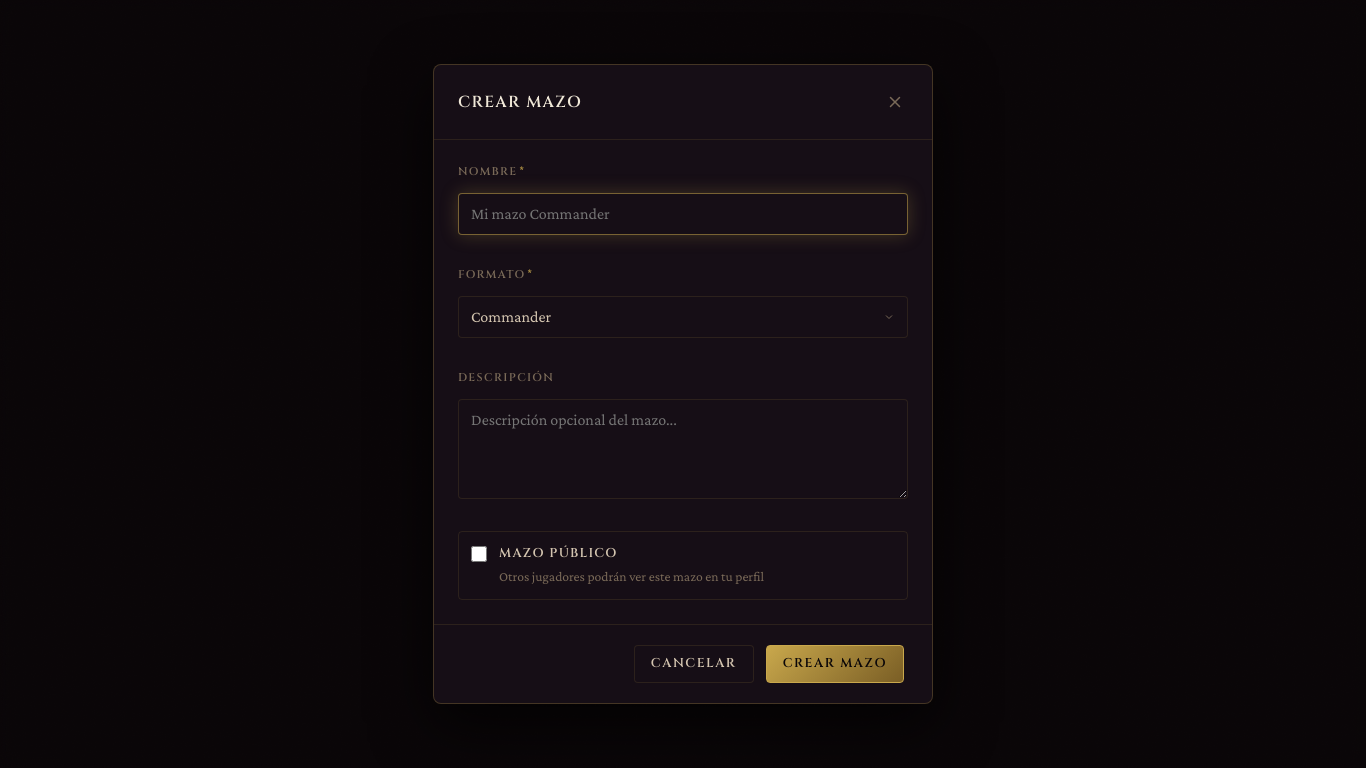
CrearMazoModal › valida que el nombre sea obligatorio
Click the button "Crear mazo" at (835, 664), box left=766, top=645, right=904, bottom=683
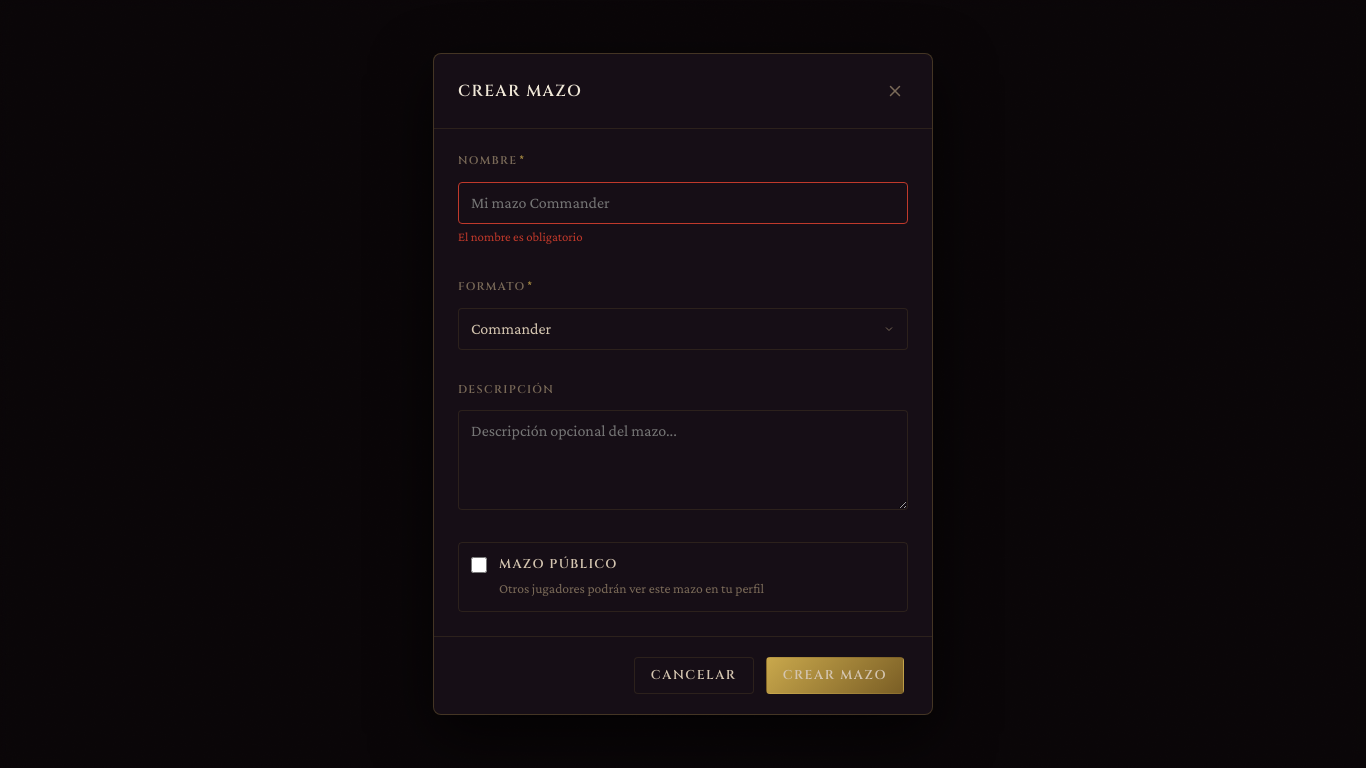
Result: the text "El nombre es obligatorio" is shown at left=458, top=230, right=583, bottom=244
